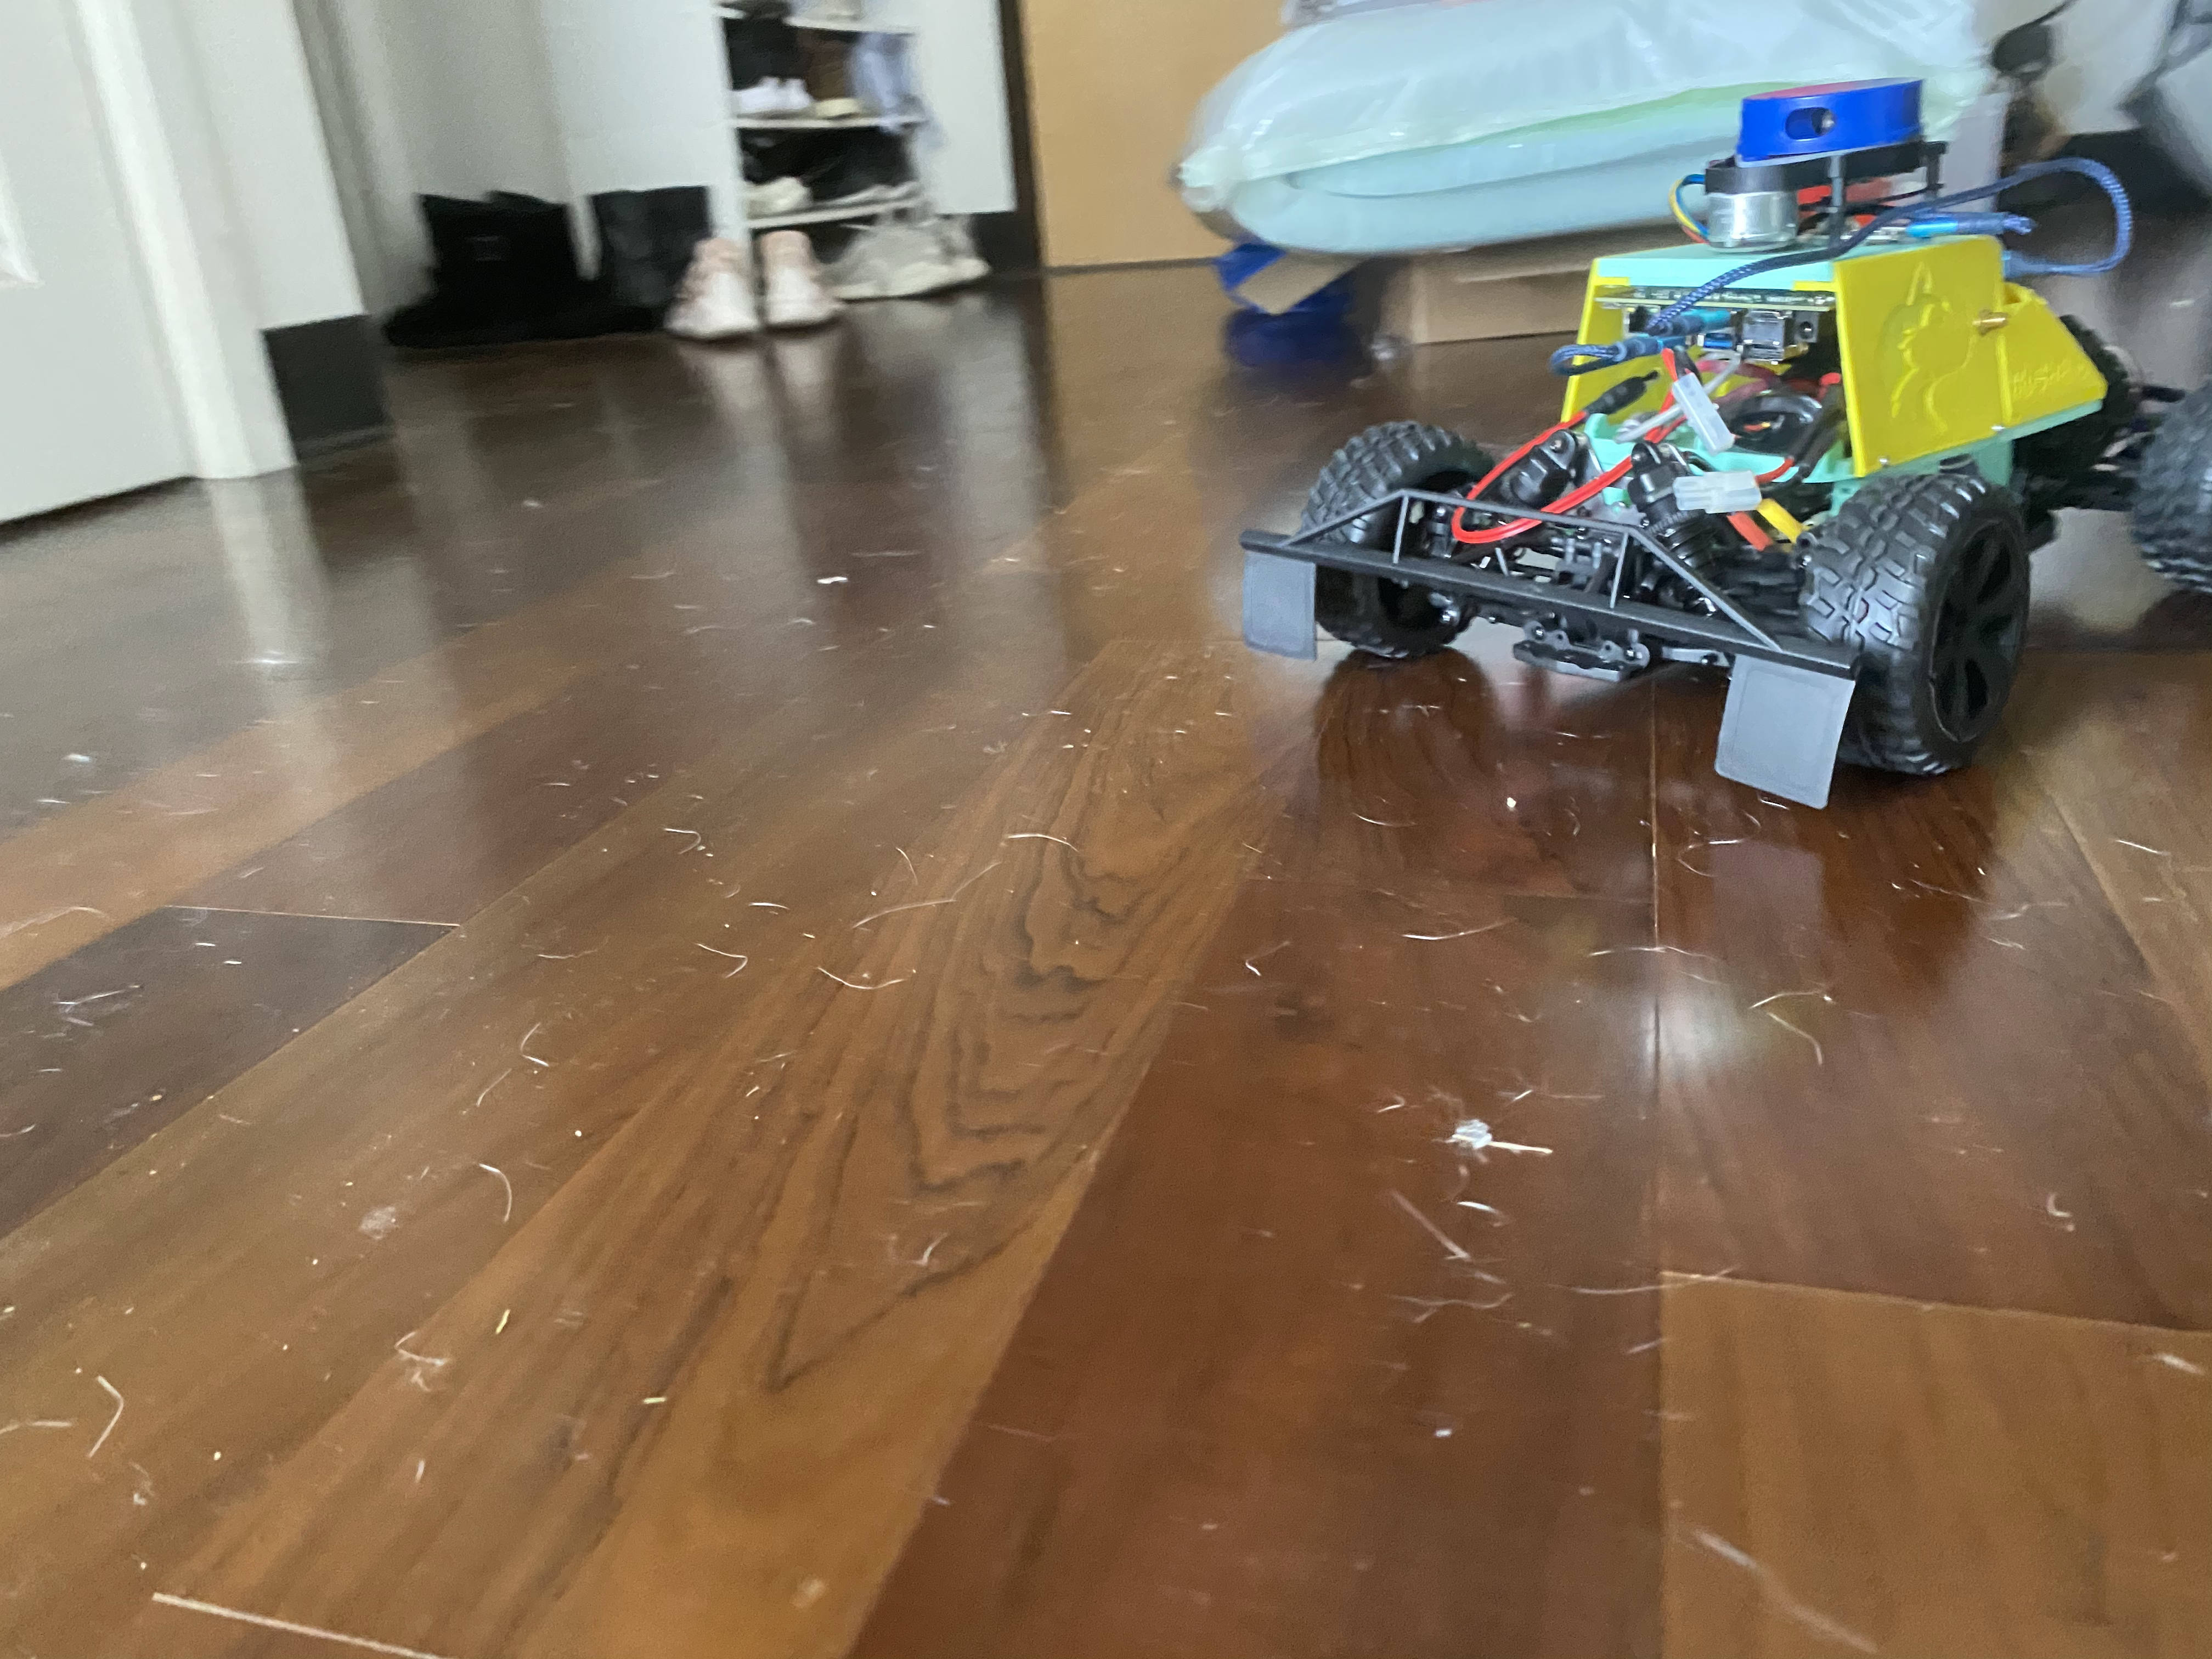mushr_car: (1240, 71, 2212, 800)
